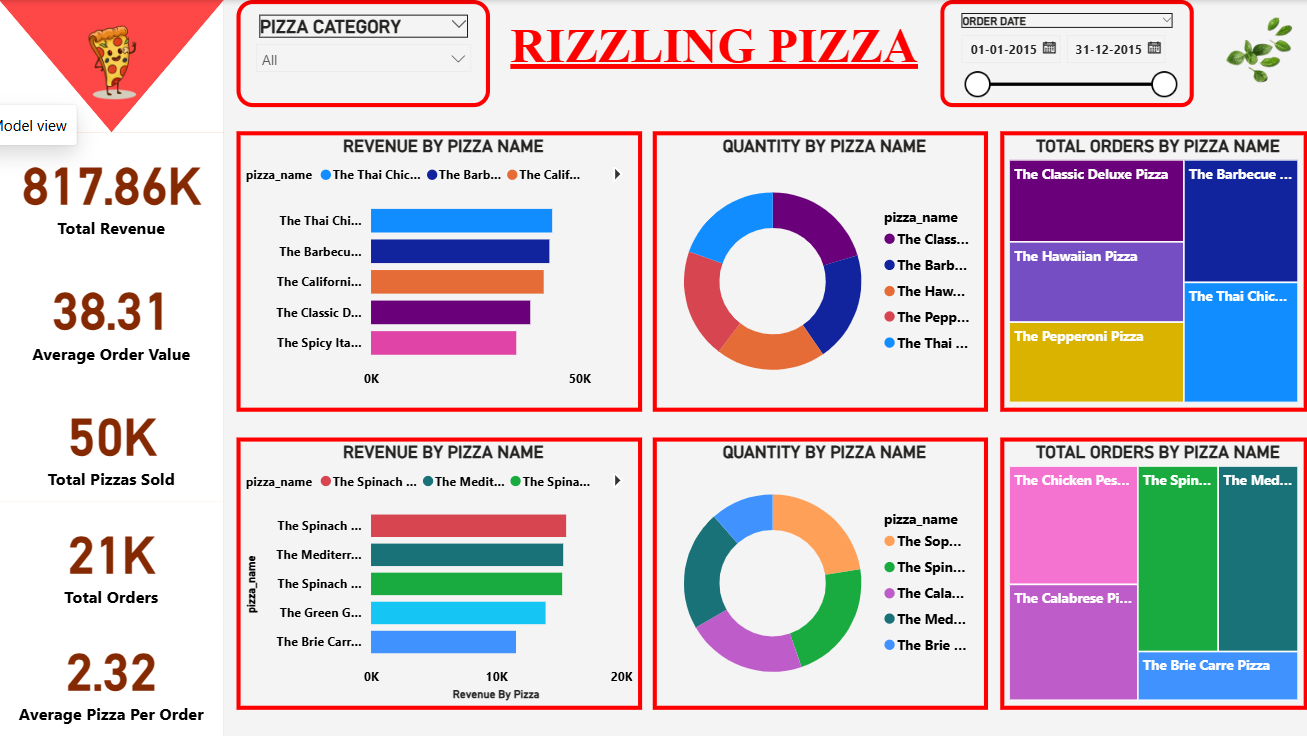

What the dashboard file says about the page in this screenshot:
{"tool":"powerbi","page":{"name":"Duplicate of Page 2","canvas":[1280,720],"ordinal":2},"visuals":[{"type":"shape","box":[0,0,220.1,720.2],"z":0},{"type":"card","fields":{"Values":["Measures (3).Total Revenue"]},"box":[0,129.6,220.1,114.9],"z":1000},{"type":"card","fields":{"Values":["Measures (3).Average Order Value"]},"box":[0,244.6,220.1,130.8],"z":2000},{"type":"card","fields":{"Values":["Measures (3).Total Pizzas Sold"]},"box":[0,375.4,220.1,114.9],"z":3000},{"type":"card","fields":{"Values":["Measures (3).Average Pizza Per Order"]},"box":[0,605.3,220.1,114.9],"z":4000},{"type":"card","fields":{"Values":["Measures (3).Total Orders"]},"box":[0,490.4,220.1,114.9],"z":5000},{"type":"shape","box":[0,0,220.1,129.6],"z":6000},{"type":"image","box":[22,0,177.3,118.6],"z":7000},{"type":"slicer","fields":{"Values":["pizza_sales (2).pizza_category"]},"box":[232.3,0,248.2,105.2],"z":8000},{"type":"textbox","box":[495.2,12.2,425.5,81.9],"z":9000},{"type":"slicer","fields":{"Values":["pizza_sales (2).order_date"]},"box":[920.8,0,248.2,105.2],"z":10000},{"type":"image","box":[1183.7,0,96.6,99],"z":11000},{"type":"barChart","title":"REVENUE BY PIZZA NAME","fields":{"Category":["pizza_sales (2).pizza_name"],"Y":["Measures (3).Revenue By Pizza"],"Series":["pizza_sales (2).pizza_name"]},"box":[231.9,129,396.6,274.4],"z":12000},{"type":"barChart","title":"REVENUE BY PIZZA NAME","fields":{"Category":["pizza_sales (2).pizza_name"],"Y":["Measures (3).Revenue By Pizza"],"Series":["pizza_sales (2).pizza_name"]},"box":[231.9,428.1,396.6,266.2],"z":13000},{"type":"donutChart","title":"QUANTITY BY PIZZA NAME","fields":{"Category":["pizza_sales (2).pizza_name"],"Y":["Measures (3).Total Quantity"]},"box":[639.5,129,328,274.4],"z":14000},{"type":"donutChart","title":"QUANTITY BY PIZZA NAME","fields":{"Category":["pizza_sales (2).pizza_name"],"Y":["Measures (3).Total Quantity"]},"box":[639.5,428.1,328,266.2],"z":15000},{"type":"treemap","title":"TOTAL ORDERS BY PIZZA NAME","fields":{"Group":["pizza_sales (2).pizza_name"],"Values":["Measures (3).Total Orders"]},"box":[979.8,129,300.5,274.4],"z":16000},{"type":"treemap","title":"TOTAL ORDERS BY PIZZA NAME","fields":{"Group":["pizza_sales (2).pizza_name"],"Values":["Measures (3).Total Orders"]},"box":[979.8,428.1,300.5,266.2],"z":17000}]}

Visuals, with their boxes in screenshot pixels (x1, y1, x2, y2):
shape: Rect(10, 3, 232, 729)
card - Measures (3).Total Revenue: Rect(10, 134, 232, 250)
card - Measures (3).Average Order Value: Rect(10, 250, 232, 381)
card - Measures (3).Total Pizzas Sold: Rect(10, 381, 232, 497)
card - Measures (3).Average Pizza Per Order: Rect(10, 613, 232, 729)
card - Measures (3).Total Orders: Rect(10, 497, 232, 613)
shape: Rect(10, 3, 232, 134)
image: Rect(32, 3, 211, 123)
slicer - pizza_sales (2).pizza_category: Rect(244, 3, 494, 109)
textbox: Rect(509, 16, 937, 98)
slicer - pizza_sales (2).order_date: Rect(937, 3, 1187, 109)
image: Rect(1202, 3, 1299, 103)
"REVENUE BY PIZZA NAME" barChart: Rect(244, 133, 643, 410)
"REVENUE BY PIZZA NAME" barChart: Rect(244, 434, 643, 703)
"QUANTITY BY PIZZA NAME" donutChart: Rect(654, 133, 984, 410)
"QUANTITY BY PIZZA NAME" donutChart: Rect(654, 434, 984, 703)
"TOTAL ORDERS BY PIZZA NAME" treemap: Rect(997, 133, 1299, 410)
"TOTAL ORDERS BY PIZZA NAME" treemap: Rect(997, 434, 1299, 703)
